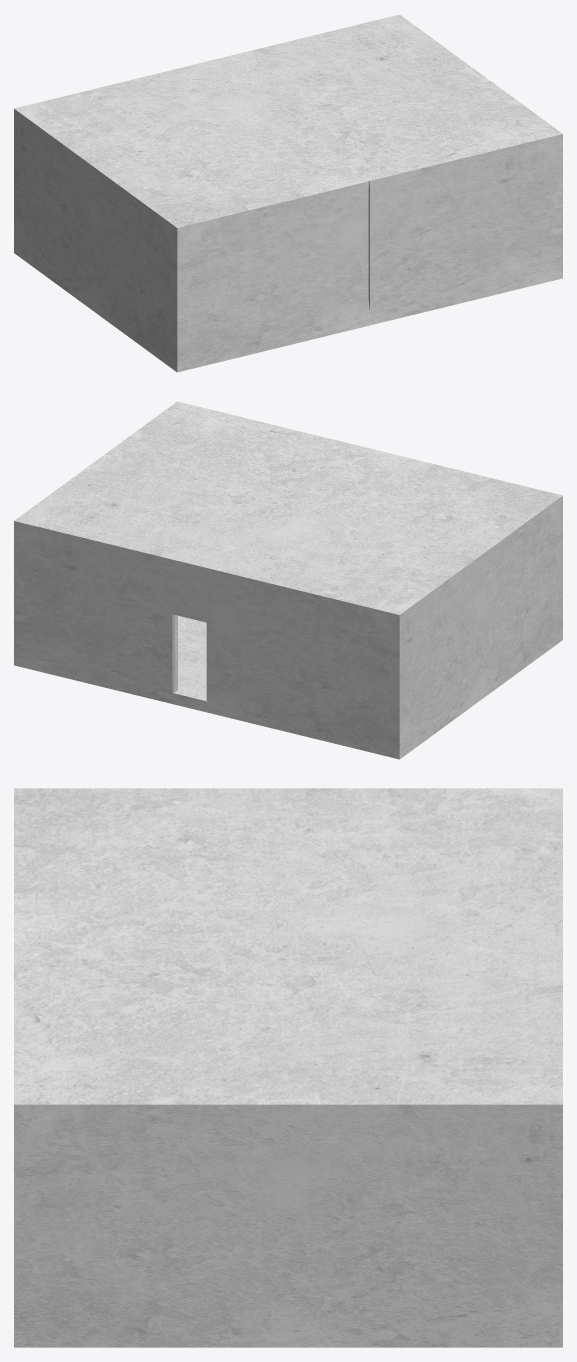
The model's file is room.obj.
3 views of the same model, one above another, from view 1: azimuth 30°, elevation 25°; view 2: azimuth 150°, elevation 25°; view 3: azimuth 270°, elevation 25° (orthographic). The views are drawn at different scales.
Visible parts, largest first — view 1: Room; view 2: Room, Cube.012; view 3: Room.
Boxes of the visible parts, x1=… form: Room: x1=14, y1=14, x2=562, y2=372; Room: x1=14, y1=401, x2=562, y2=759; Cube.012: x1=172, y1=613, x2=208, y2=701; Room: x1=14, y1=788, x2=562, y2=1347.
Size of the model in its own units: 9.55 by 3.42 by 7.
4 materials, 4 textured.
